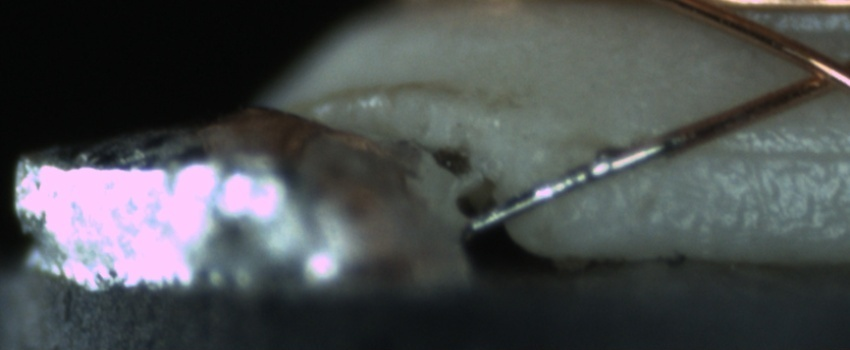CL: (780, 42, 848, 102)
DL: (674, 121, 847, 184)
TB: (585, 151, 615, 182)
TS: (462, 133, 675, 229)
TTCW: (467, 112, 725, 232)
